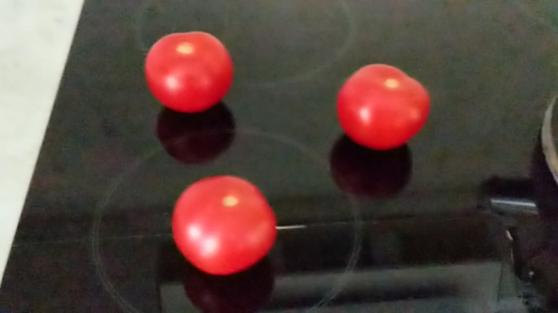tomato: (172, 172, 277, 274), (338, 60, 431, 152), (149, 27, 236, 113)
